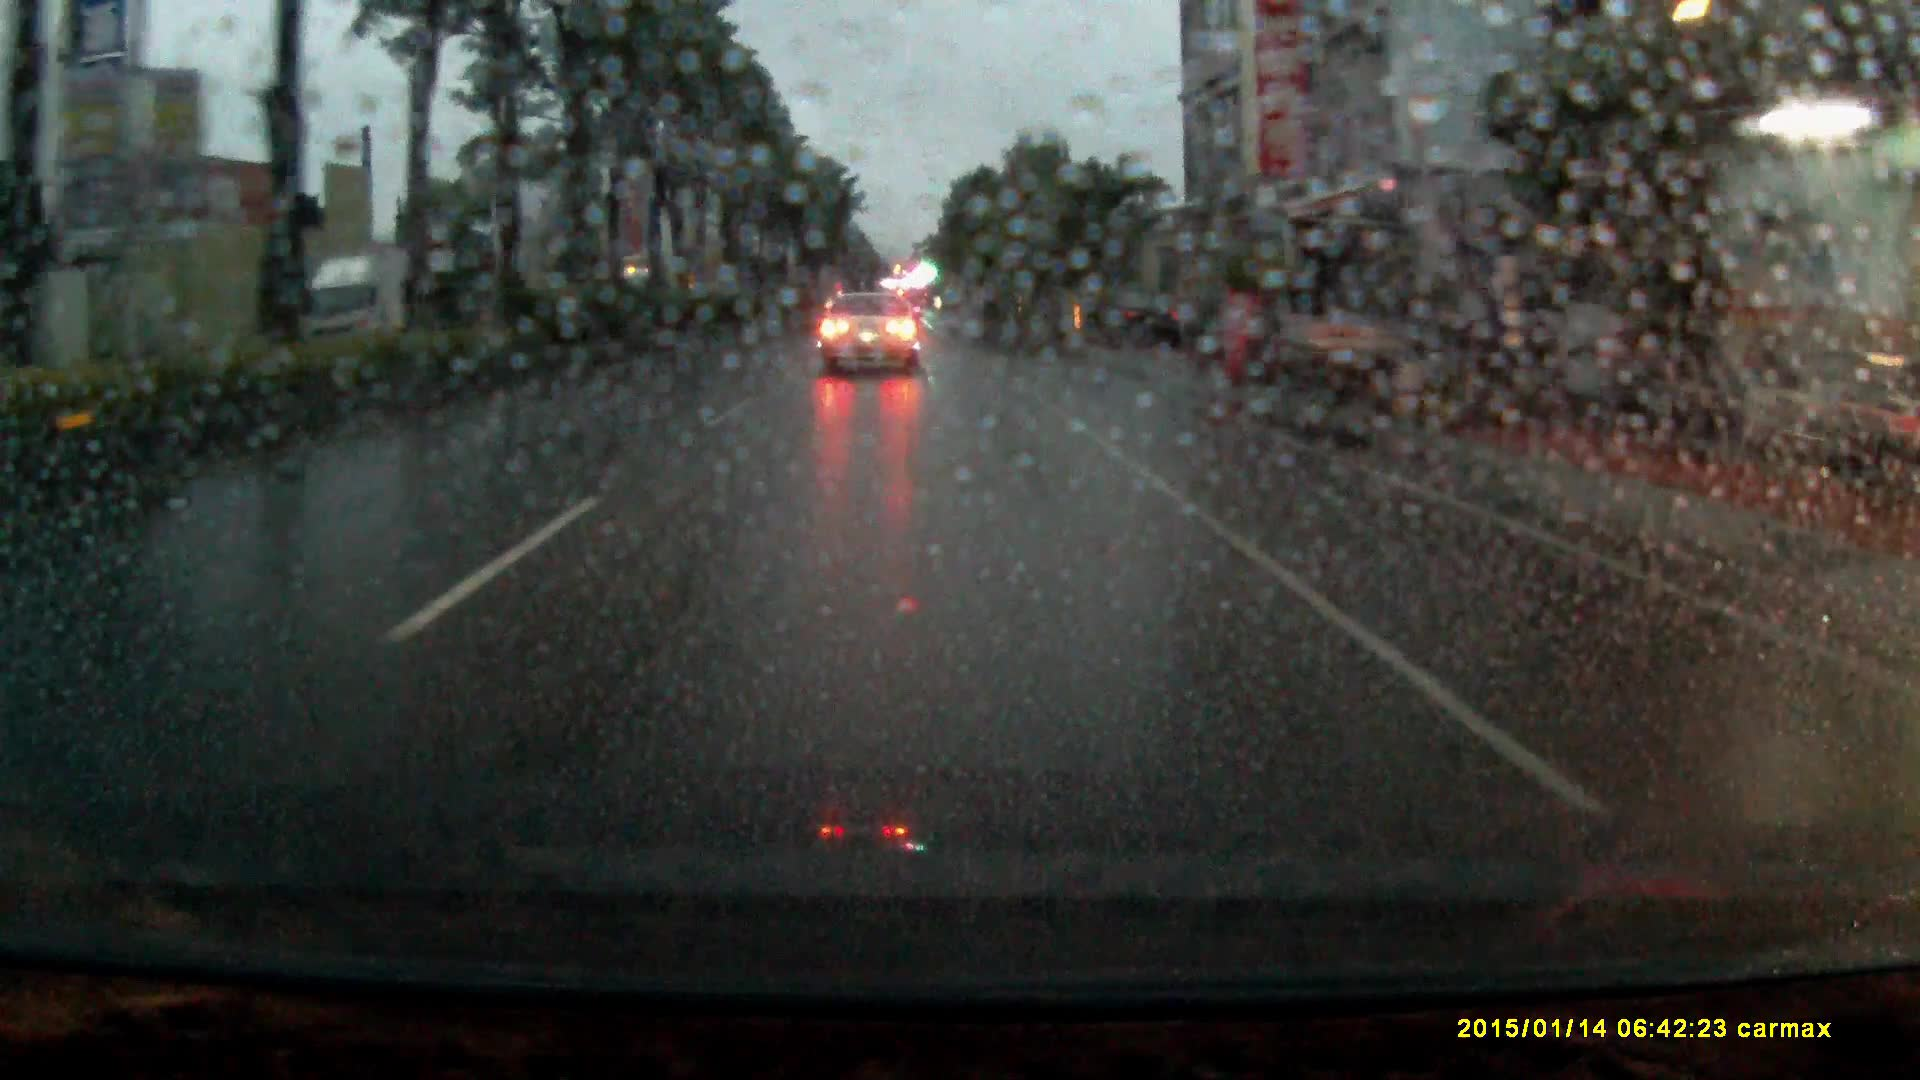vehicle: (291, 245, 460, 338), (820, 291, 922, 378), (1100, 294, 1184, 348)
